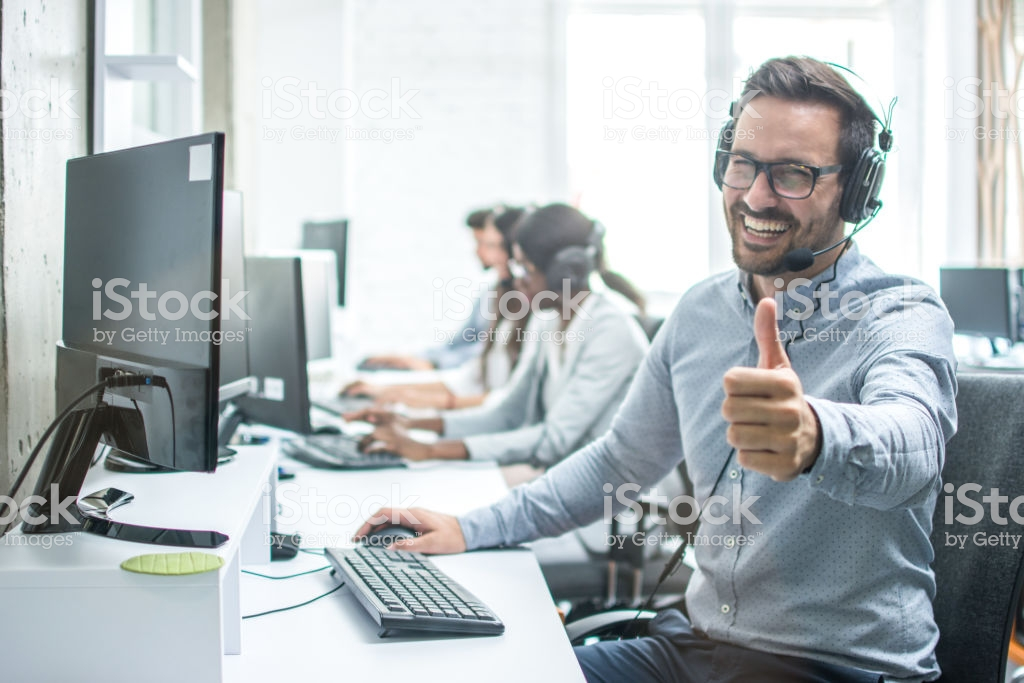thumbsup: (719, 298, 804, 482)
